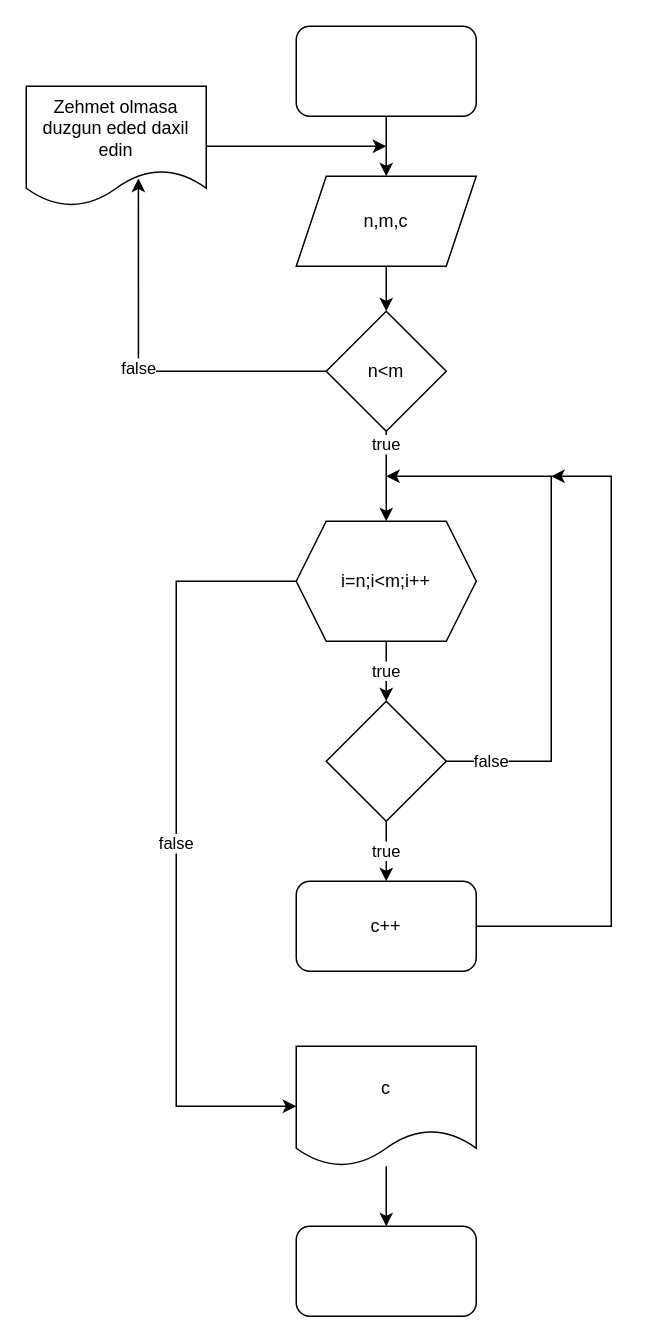
The diagram is 650 pixels wide and 1343 high, and some of its shapes have lost their labels. The centre of each missing label's shape, as x and y in pixels:
"End" belongs at (385,1270).
"i%2==1" belongs at (385,760).
"Start" belongs at (385,70).
